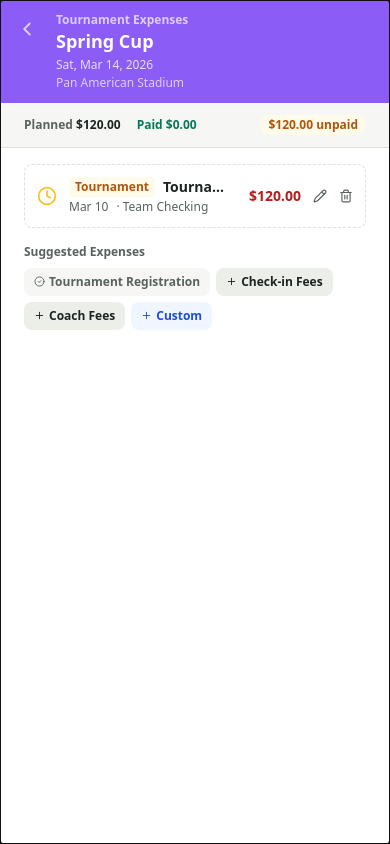
Test case: EventExpenseModal editing › prefills the form from the expense being edited
Click the button named "edit expense": (320, 196) [313,188,327,202]
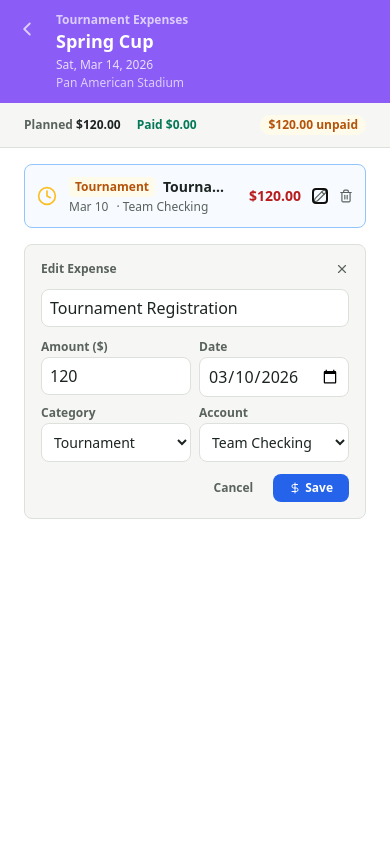
Expected: the field showing "Tournament Registration" is shown, [41,288,349,326]
Expected: the number field showing "120" is shown, [41,356,191,394]
Expected: the date field showing "2026-03-10" is shown, [199,356,349,396]
